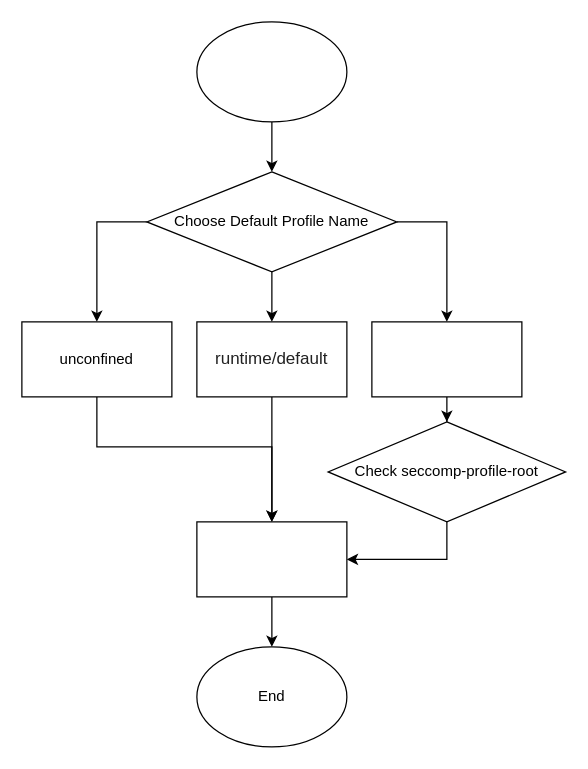
The diagram is 588 pixels wide and 769 high, and some of its shapes have lost their labels. Each missing label, with the centre of its shape:
"localhost/<path>" belongs at point 446,359.
"Start" belongs at point 271,71.
"Write to File" belongs at point 271,559.
